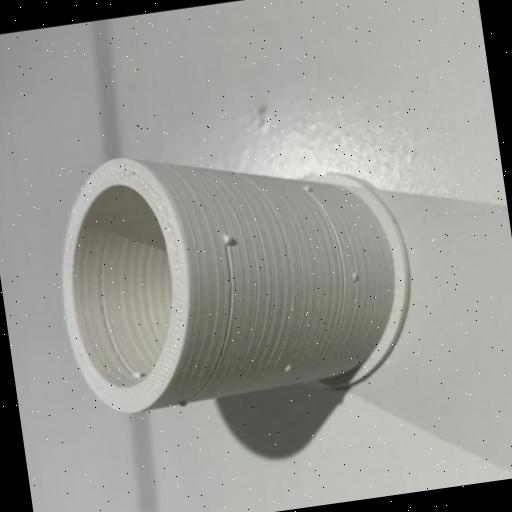blobs: (217, 230, 237, 252), (278, 359, 298, 376), (176, 394, 193, 412), (301, 180, 318, 198), (348, 268, 364, 283), (130, 368, 146, 381)
